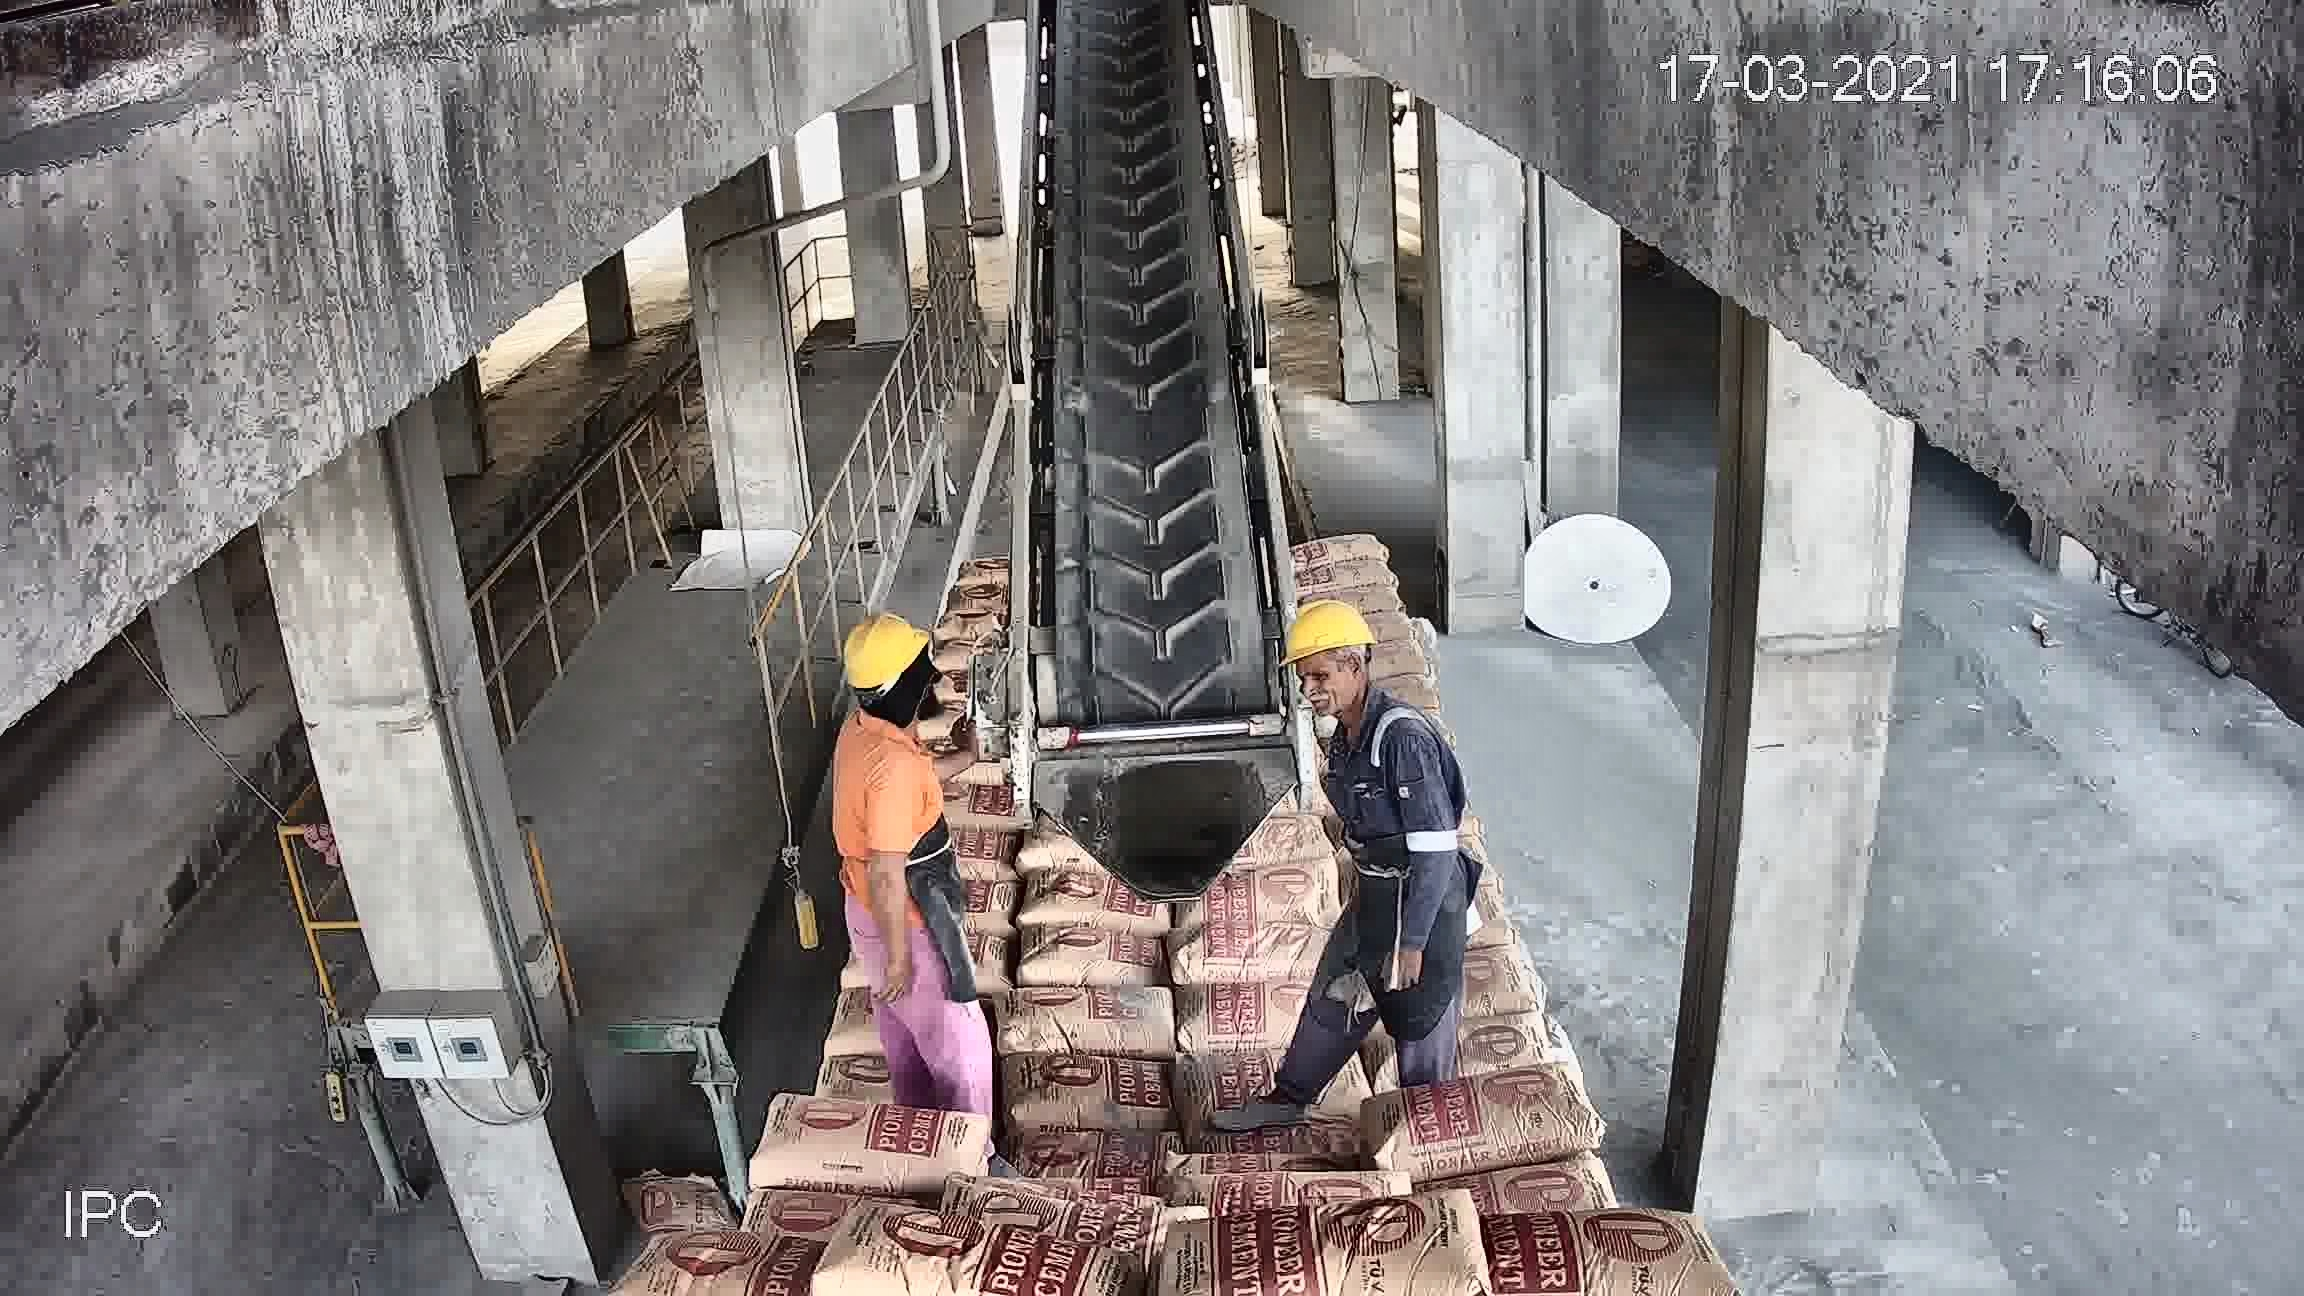bag: (1002, 24, 1288, 858)
bag_h: (1195, 1182, 1518, 1294), (1353, 1071, 1597, 1177), (802, 1218, 1127, 1294), (1442, 1203, 1709, 1294), (753, 1097, 1000, 1193), (1003, 1048, 1169, 1147), (1005, 976, 1184, 1067), (635, 1230, 843, 1296), (1182, 866, 1334, 945), (1171, 987, 1310, 1059), (1014, 930, 1161, 991), (1177, 927, 1317, 991), (1290, 529, 1396, 568), (1293, 562, 1396, 600)
